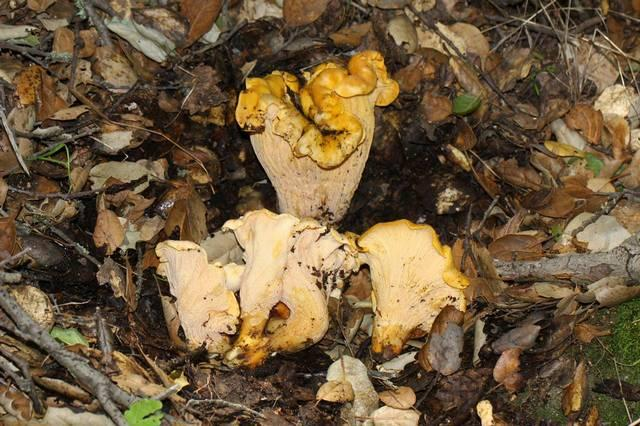Edible Mushroom: (234, 48, 399, 226), (172, 208, 350, 365), (352, 217, 470, 361)
